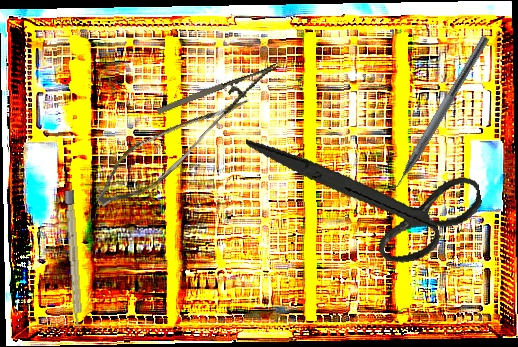Chopper: (377, 28, 490, 203)
Iris Scissors: (245, 97, 491, 288)
Micro Scissor: (88, 63, 249, 230)
Needle Holder: (155, 62, 288, 135)
Scalpel Handle: (64, 190, 84, 331)
